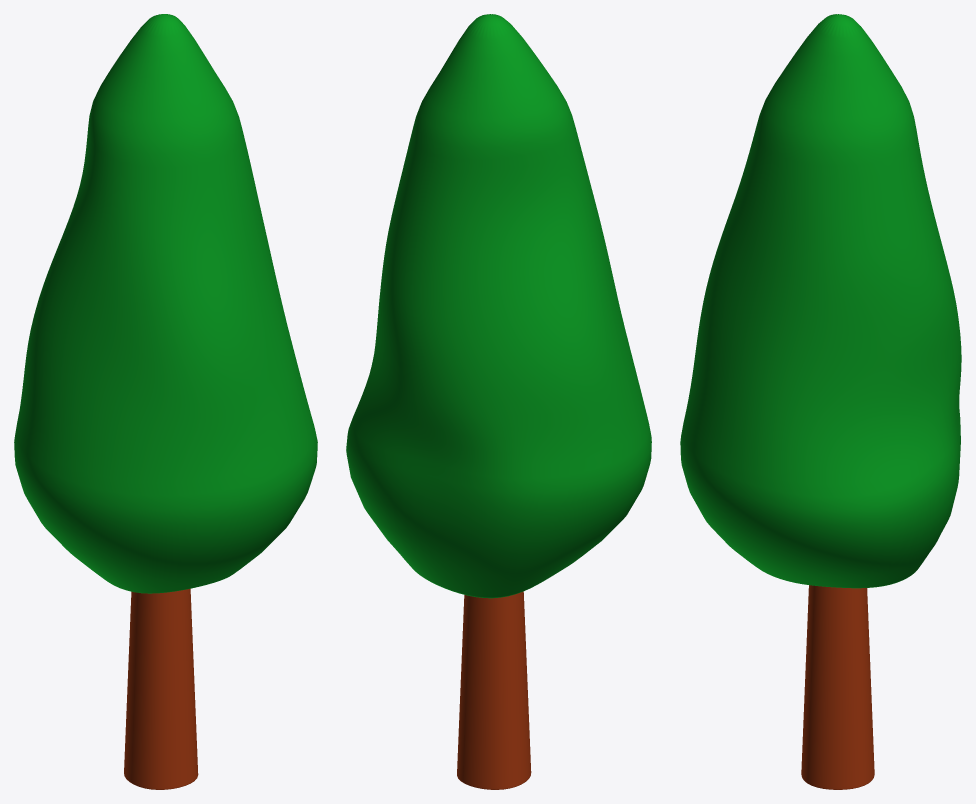
The model's file is Tree1.fbx.
3 renders of one model, left to right at view 1: azimuth 30°, elevation 25°; view 2: azimuth 150°, elevation 25°; view 3: azimuth 270°, elevation 25°, orthographic.
Visible parts, largest first — view 1: Cylinder, Cube; view 2: Cylinder, Cube; view 3: Cylinder, Cube.
Boxes of the visible parts, x1,y1,x2,y2 form: Cylinder: (14, 14, 317, 593); Cube: (124, 588, 198, 789); Cylinder: (346, 14, 651, 598); Cube: (457, 591, 531, 789); Cylinder: (680, 14, 961, 588); Cube: (801, 585, 874, 789).
Bounding box in the file's own units: 563 × 1523 × 510.
